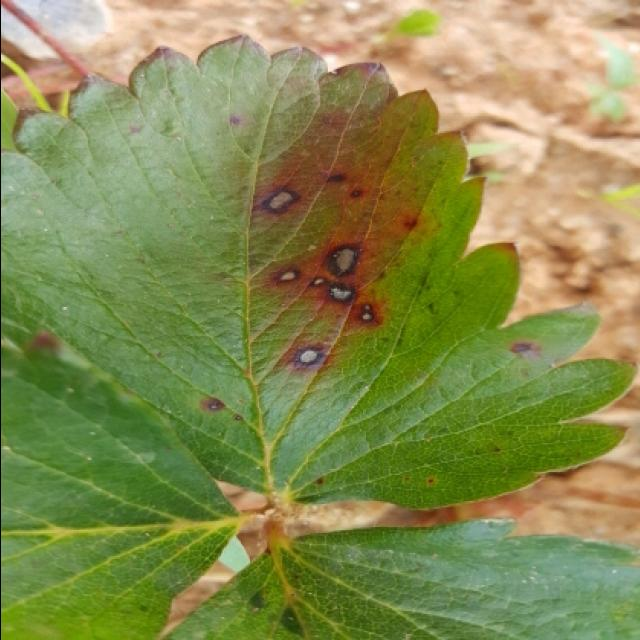Leaf Spot: (2, 34, 640, 512)
